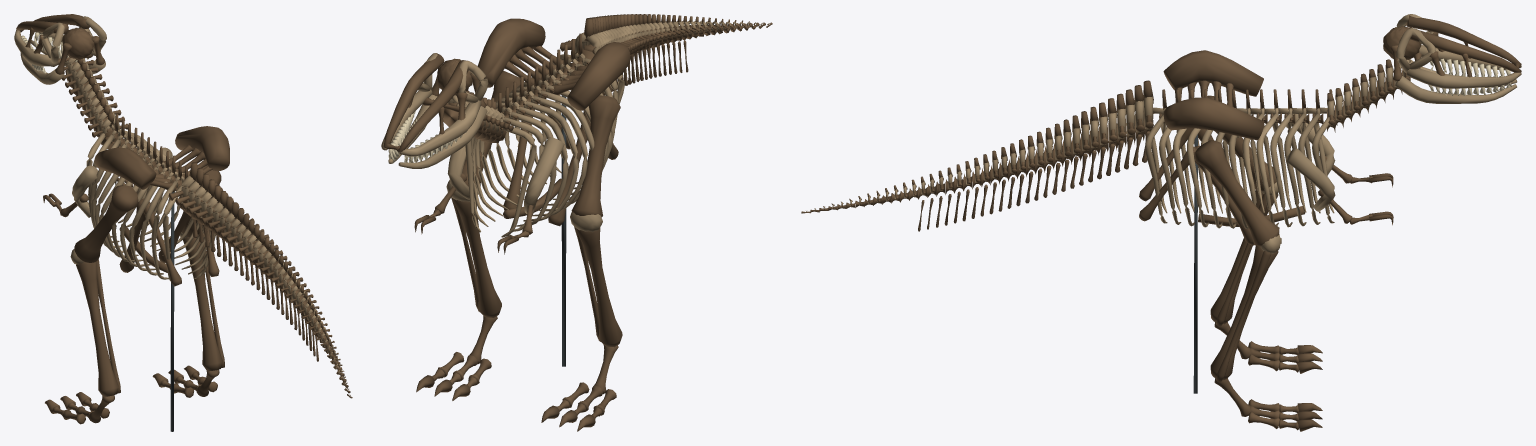
3 views of the same model, side by side, from view 1: azimuth 30°, elevation 25°; view 2: azimuth 150°, elevation 25°; view 3: azimuth 270°, elevation 25° (orthographic). The views are drawn at different scales.
Parts seen in each view (by area): view 1: D02_SPEC_Fossil umber_export, D02_SPEC_Fossil ridge_export, D02_SPEC_Mount steel_export, D02_SPEC_Ivory_export; view 2: D02_SPEC_Fossil umber_export, D02_SPEC_Fossil ridge_export, D02_SPEC_Ivory_export, D02_SPEC_Mount steel_export; view 3: D02_SPEC_Fossil umber_export, D02_SPEC_Fossil ridge_export, D02_SPEC_Ivory_export, D02_SPEC_Mount steel_export.
Part boxes in pixels (left/top/right/bottom): D02_SPEC_Fossil umber_export: left=16, top=14, right=352, bottom=424; D02_SPEC_Fossil ridge_export: left=14, top=16, right=350, bottom=396; D02_SPEC_Mount steel_export: left=170, top=192, right=174, bottom=431; D02_SPEC_Ivory_export: left=21, top=32, right=88, bottom=73; D02_SPEC_Fossil umber_export: left=383, top=14, right=772, bottom=431; D02_SPEC_Fossil ridge_export: left=381, top=21, right=769, bottom=237; D02_SPEC_Ivory_export: left=388, top=111, right=466, bottom=163; D02_SPEC_Mount steel_export: left=561, top=95, right=566, bottom=366; D02_SPEC_Fossil umber_export: left=801, top=15, right=1521, bottom=431; D02_SPEC_Fossil ridge_export: left=806, top=14, right=1521, bottom=253; D02_SPEC_Ivory_export: left=1428, top=58, right=1511, bottom=95; D02_SPEC_Mount steel_export: left=1193, top=134, right=1197, bottom=393.
Size of the model in its own units: 2.21 by 4.8 by 8.42.
